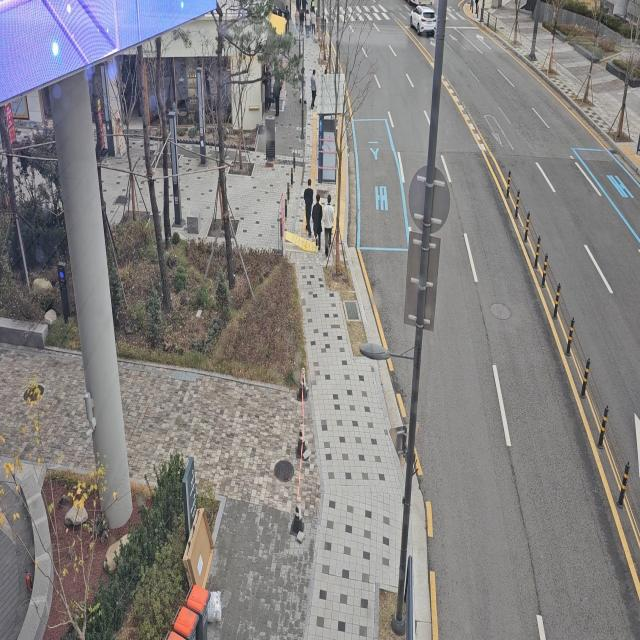Car: (407, 5, 442, 43)
